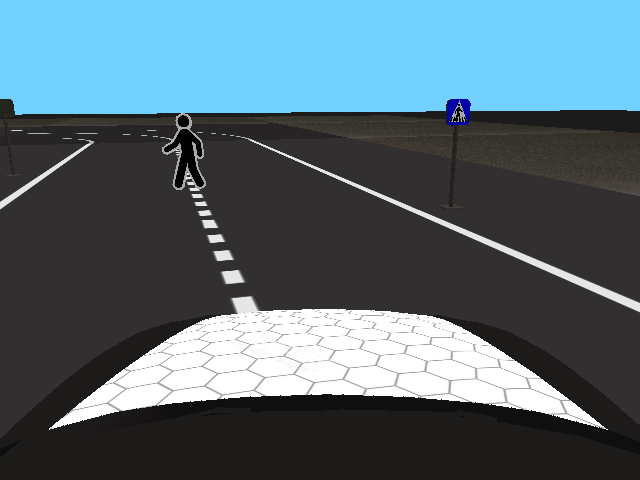pedestrian: (160, 113, 207, 189)
